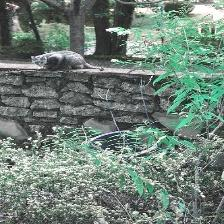kedo: (31, 50, 104, 70)
